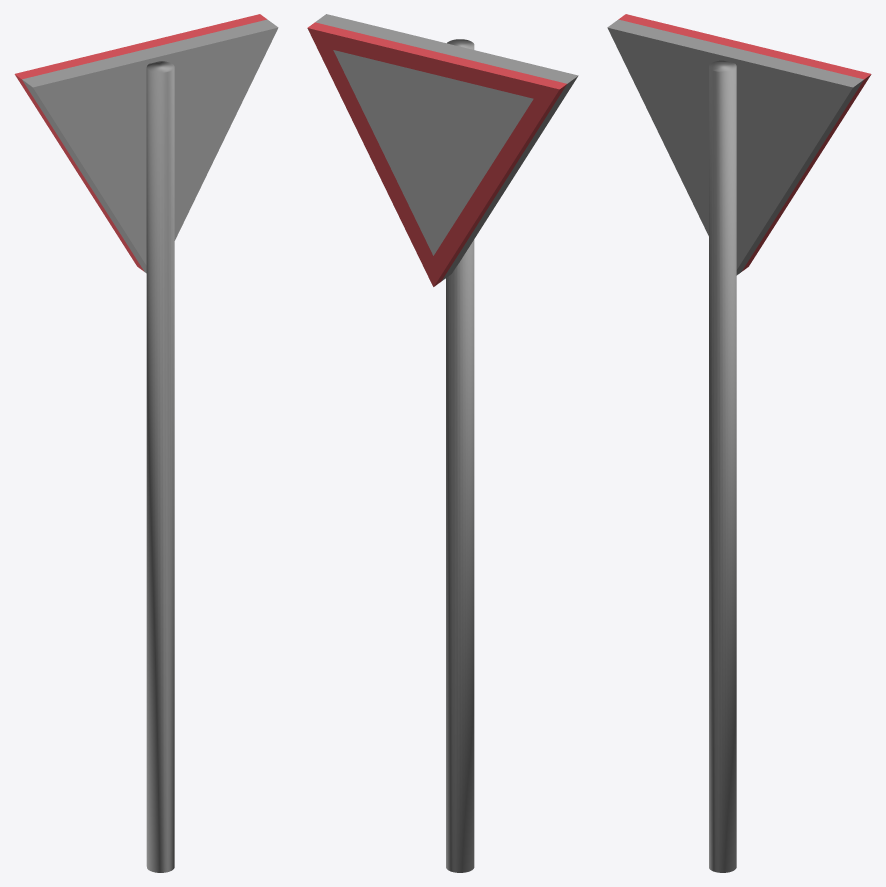
File: panneau_danger.glb
3 views of the same model, side by side, from view 1: azimuth 30°, elevation 25°; view 2: azimuth 150°, elevation 25°; view 3: azimuth 330°, elevation 25° (orthographic). The views are drawn at different scales.
Parts seen in each view (by area): view 1: Cylinder.019; view 2: Cylinder.019; view 3: Cylinder.019.
Boxes of the visible parts, x1,y1,x2,y2 form: Cylinder.019: [14, 14, 278, 872]; Cylinder.019: [307, 14, 578, 872]; Cylinder.019: [607, 14, 871, 872].
Size of the model in its own units: 3.7 by 11.59 by 0.8275.
4 materials, 1 textured.
